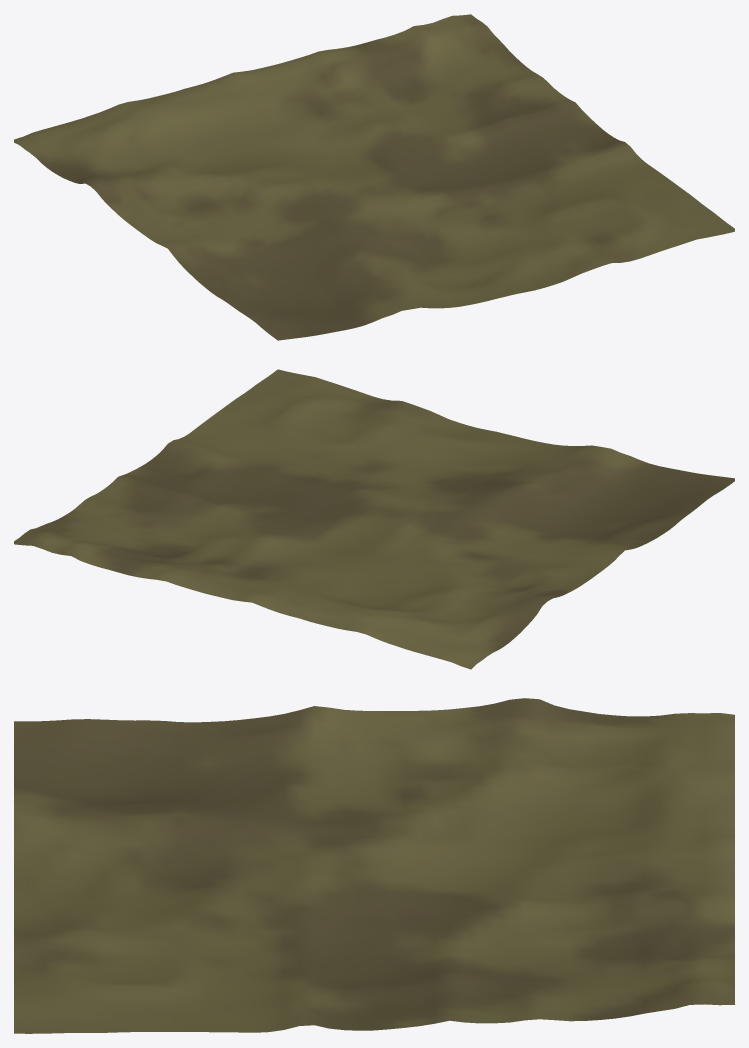
File: land_m_12_00.glb
The picture shows the model from 3 angles, top to bottom: view 1: azimuth 30°, elevation 25°; view 2: azimuth 150°, elevation 25°; view 3: azimuth 270°, elevation 25°; orthographic projection. The views are drawn at different scales.
Visible parts, largest first — view 1: land_m_12_00; view 2: land_m_12_00; view 3: land_m_12_00.
Part boxes in pixels (x1,y1,x2,y2): land_m_12_00: [14, 14, 734, 340]; land_m_12_00: [14, 369, 734, 669]; land_m_12_00: [14, 698, 734, 1033].
Size of the model in its own units: 960 by 74.7 by 960.
